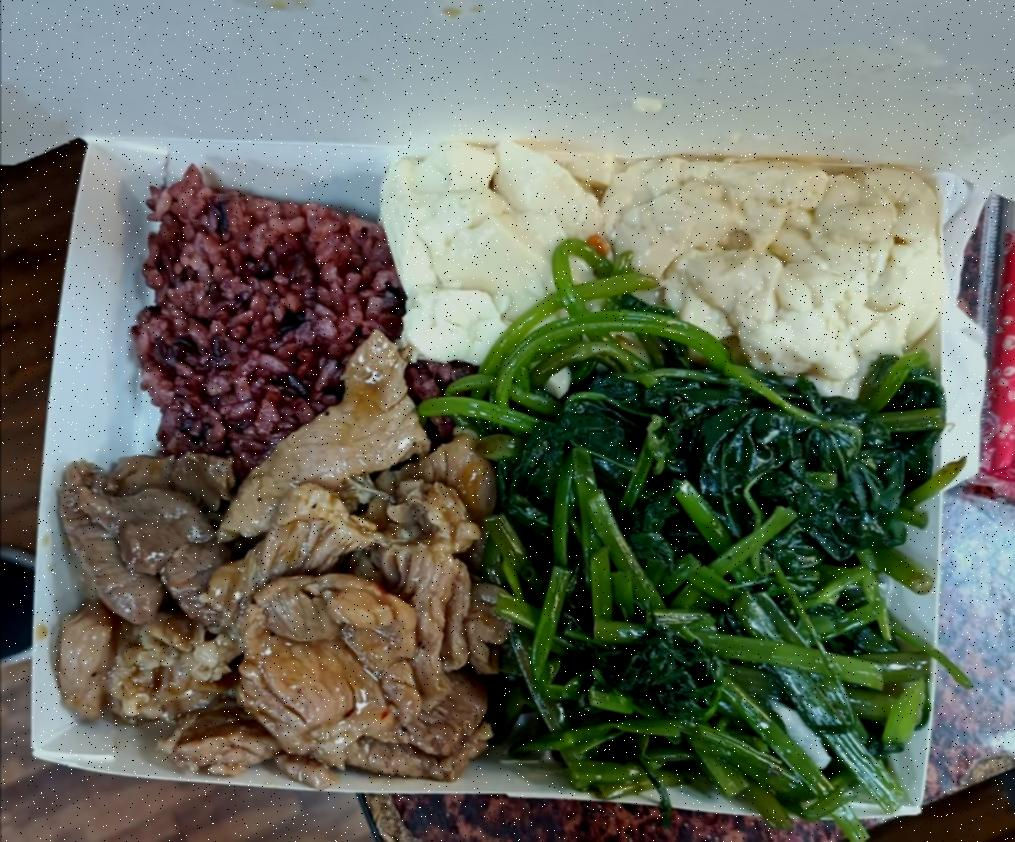box: (14, 116, 973, 829)
pork with scrambled eggs: (53, 407, 488, 766)
purple rice: (128, 194, 488, 708)
side dish: (400, 154, 925, 358), (495, 570, 913, 814), (492, 380, 925, 580)
